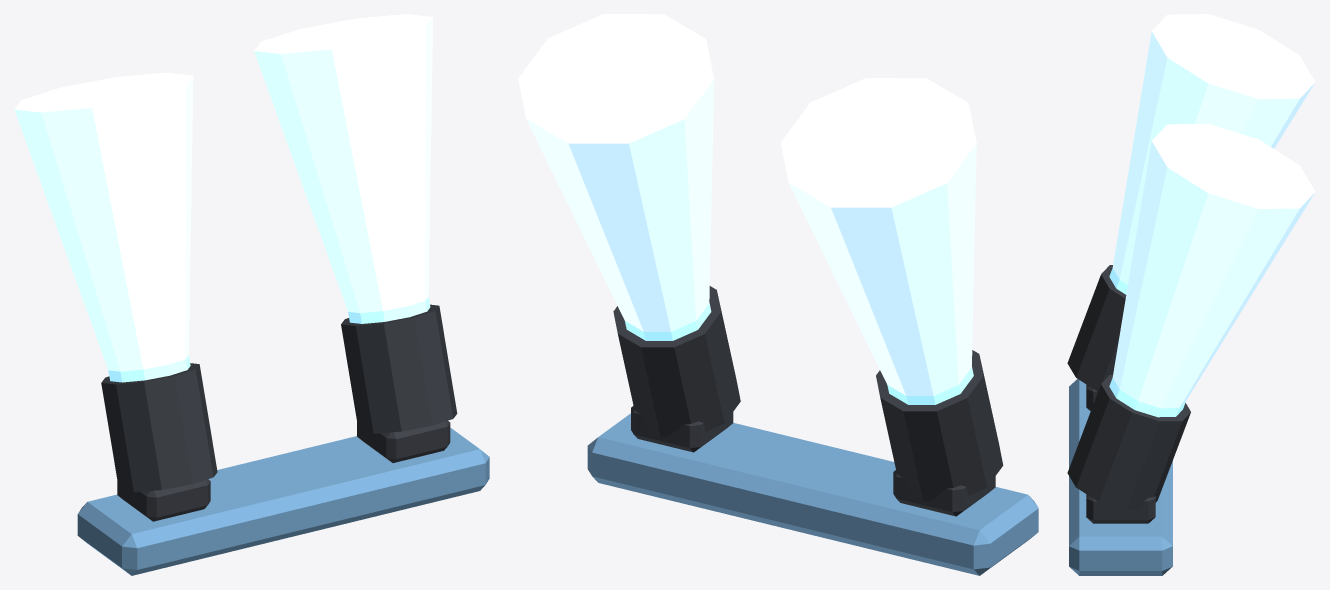
File: poster_m2_1.glb
3 renders of one model, left to right at view 1: azimuth 30°, elevation 25°; view 2: azimuth 150°, elevation 25°; view 3: azimuth 270°, elevation 25°, orthographic. The views are drawn at different scales.
Visible parts, largest first — view 1: poster_m2_1_mesh; view 2: poster_m2_1_mesh; view 3: poster_m2_1_mesh.
Part boxes in pixels (x1=…): poster_m2_1_mesh: x1=14, y1=14, x2=489, y2=575; poster_m2_1_mesh: x1=518, y1=14, x2=1038, y2=575; poster_m2_1_mesh: x1=1067, y1=14, x2=1315, y2=575.
Bounding box in the file's own units: 0.4902 × 0.5227 × 0.2866.
